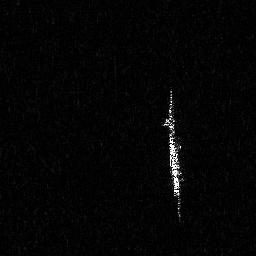ship: (161, 85, 186, 226)
